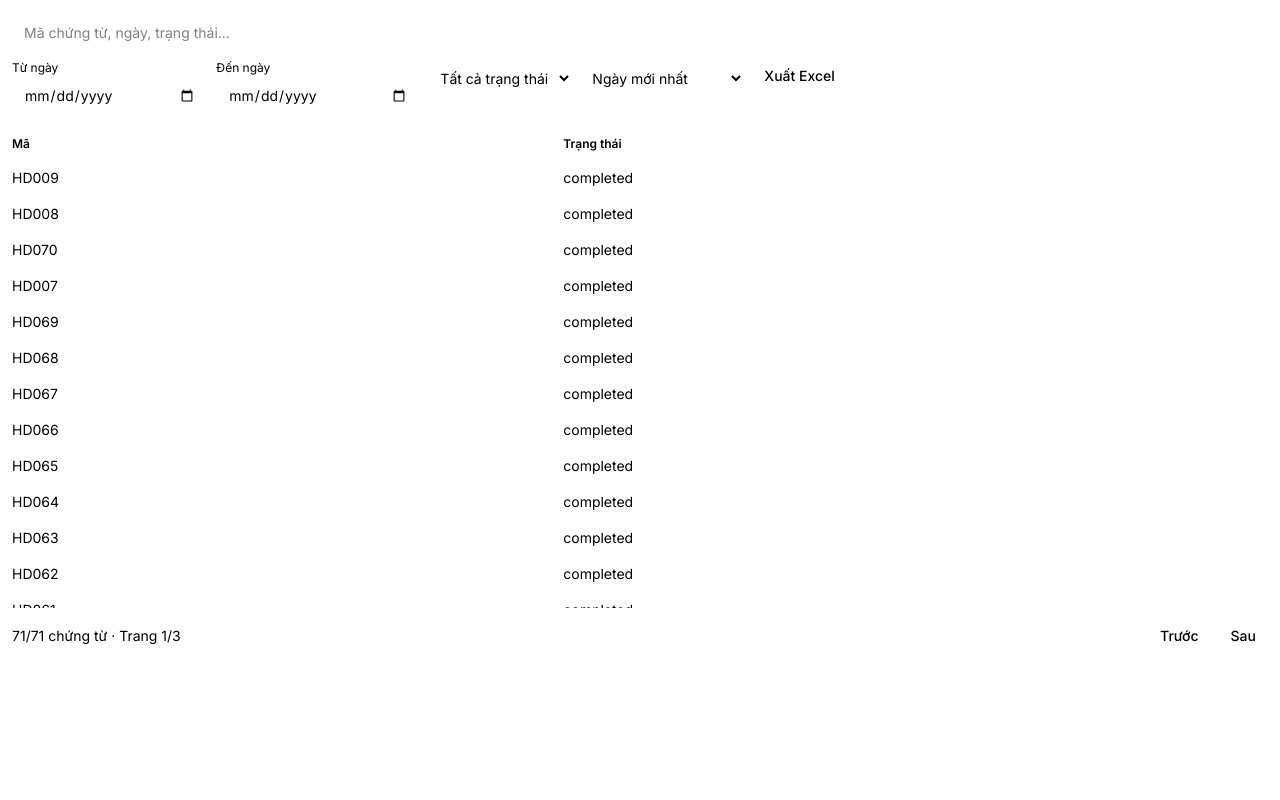
Test: accessible complete document history › filters dates and cancelled status across all history
The width and height of the screenshot is (1280, 800).
Select "Đã hủy" in the dropdown named "Trạng thái chứng từ lịch sử" at x=500, y=78, box top-left (428, 60), bottom-right (572, 96)
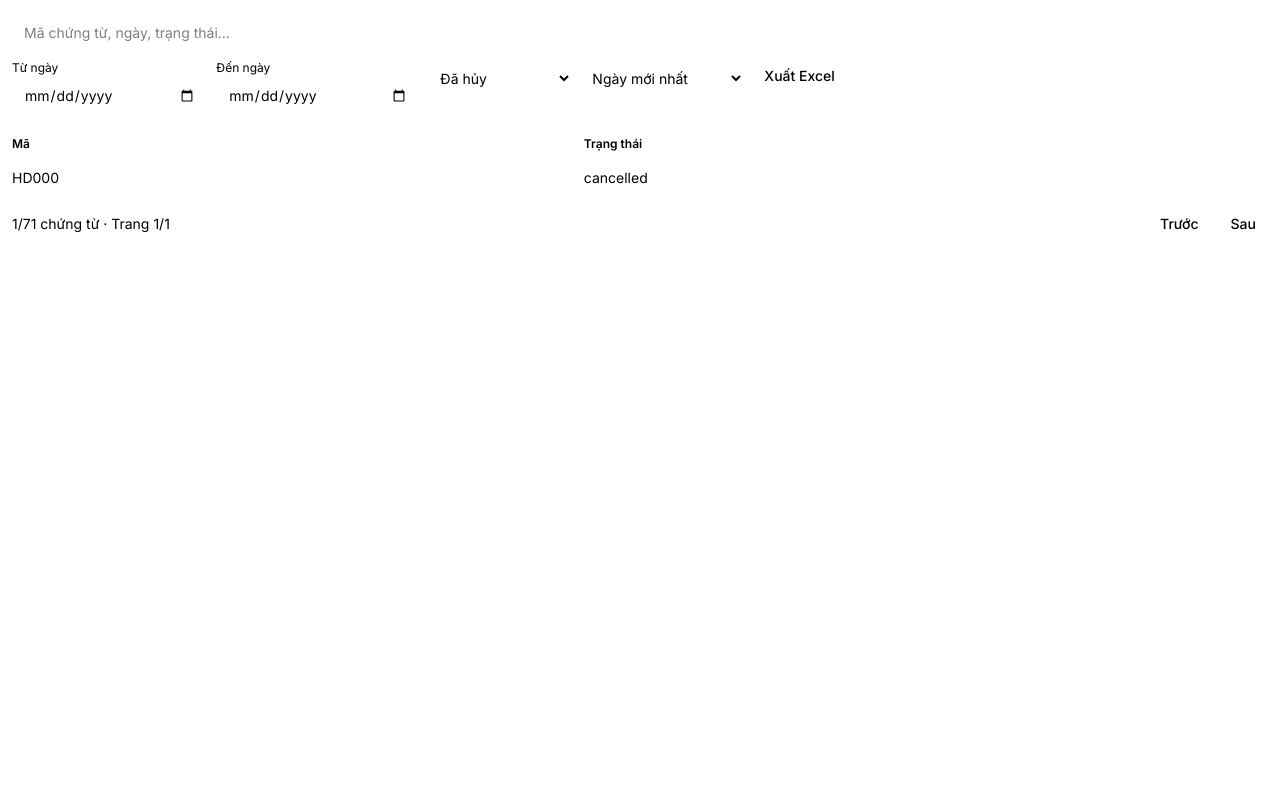
Expected: the number of links is 1, top-left (12, 169), bottom-right (59, 186)
Type "2026-11-01" into the date field labelled "Từ ngày".
click(110, 96); type("2026-11-01")  # box top-left (12, 76), bottom-right (208, 116)
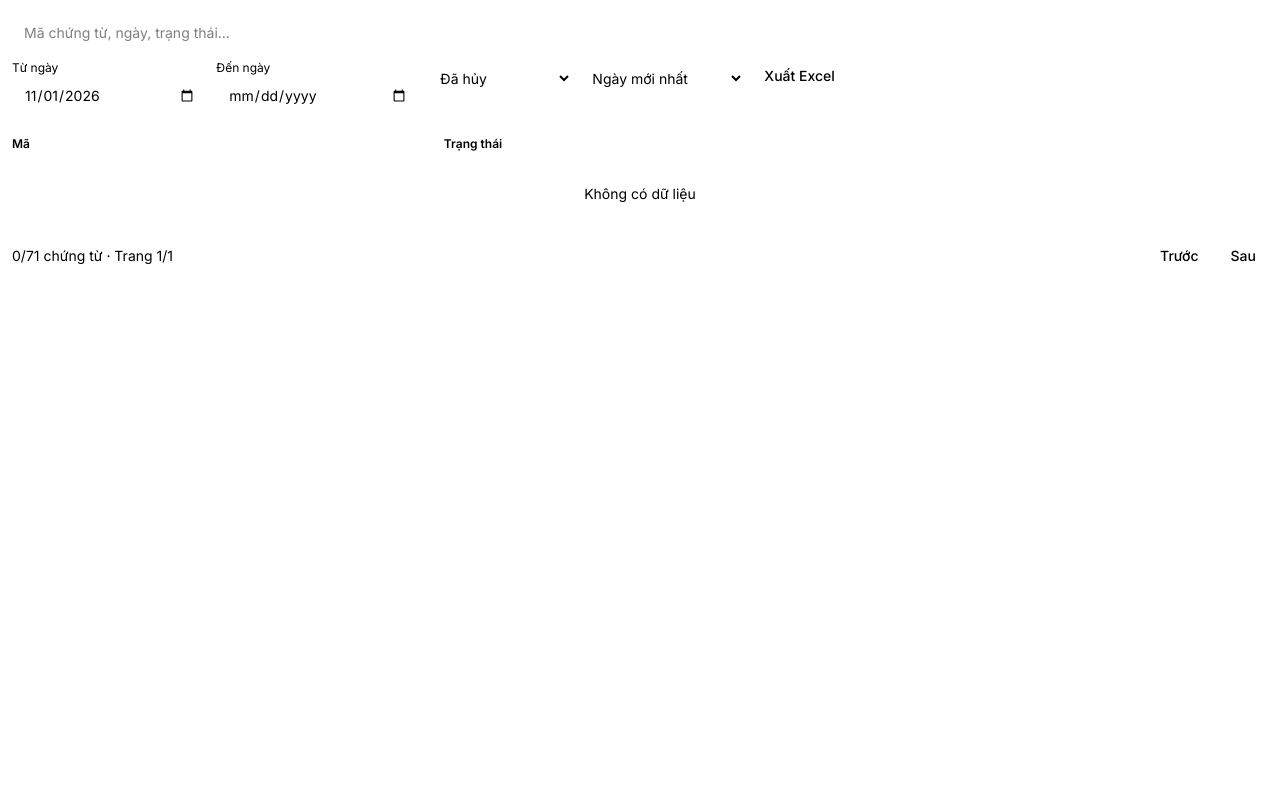
Type "2026-10-01" into the date field labelled "Đến ngày".
click(318, 96); type("2026-10-01")  # box top-left (216, 76), bottom-right (420, 116)
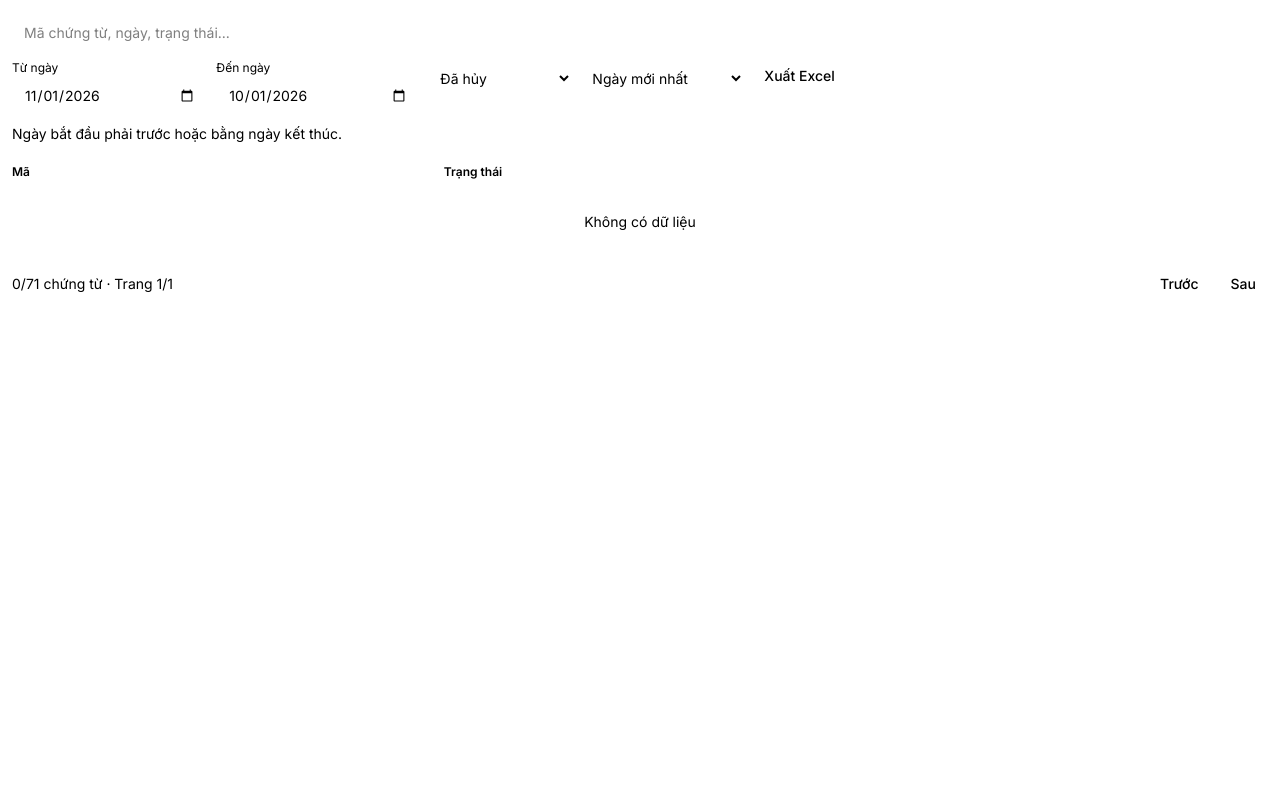
Expected: the button "Xuất Excel" is disabled, top-left (752, 60), bottom-right (847, 92)
Expected: the message shows "Ngày bắt đầu", top-left (12, 125), bottom-right (342, 142)
